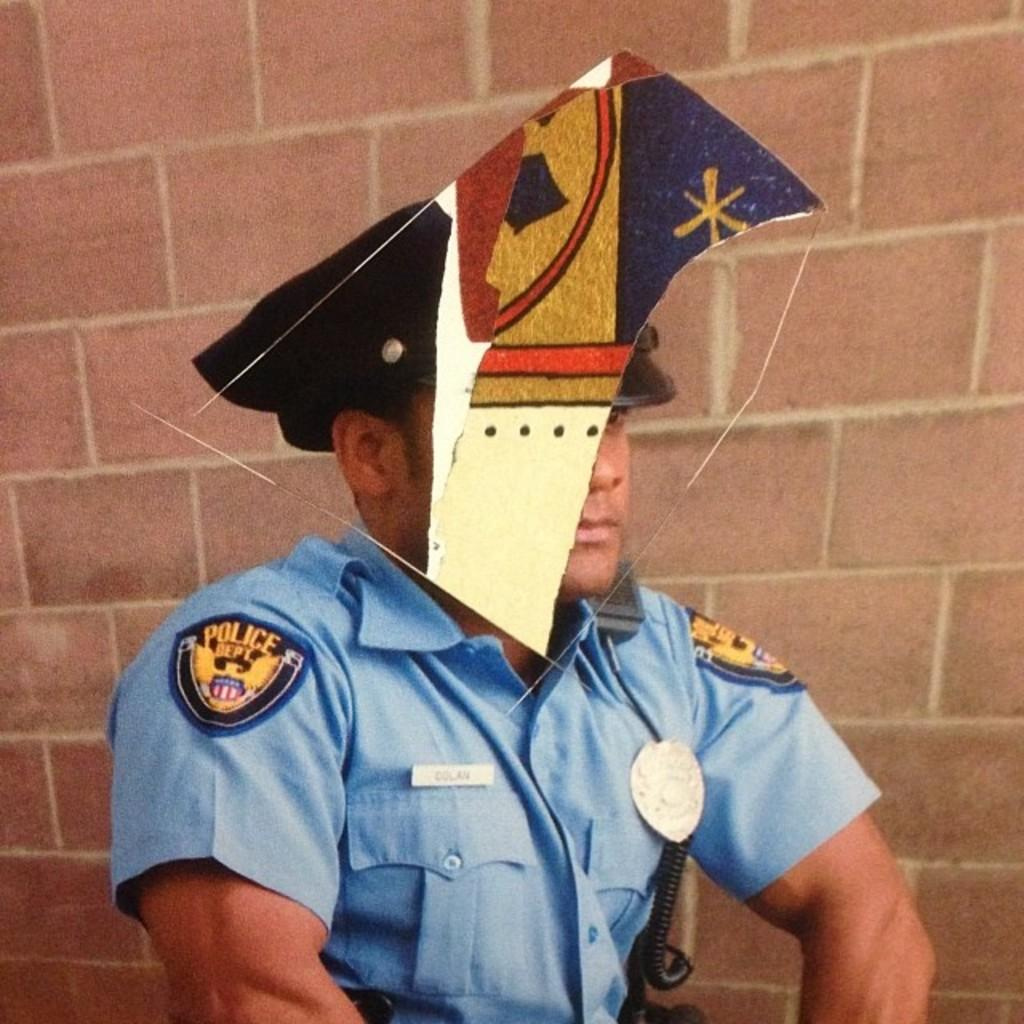Sem Máscara: (387, 384, 635, 597)
